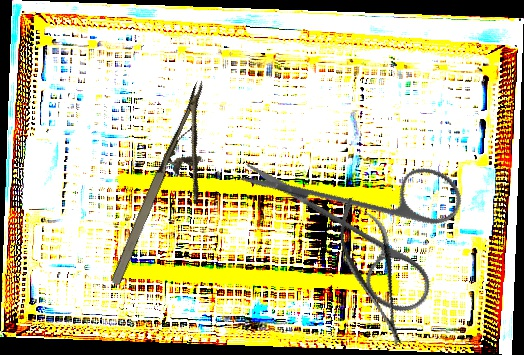Iris Scissors: (236, 90, 496, 352)
Micro Scissor: (327, 190, 420, 354)
Needle Holder: (104, 78, 245, 301)
